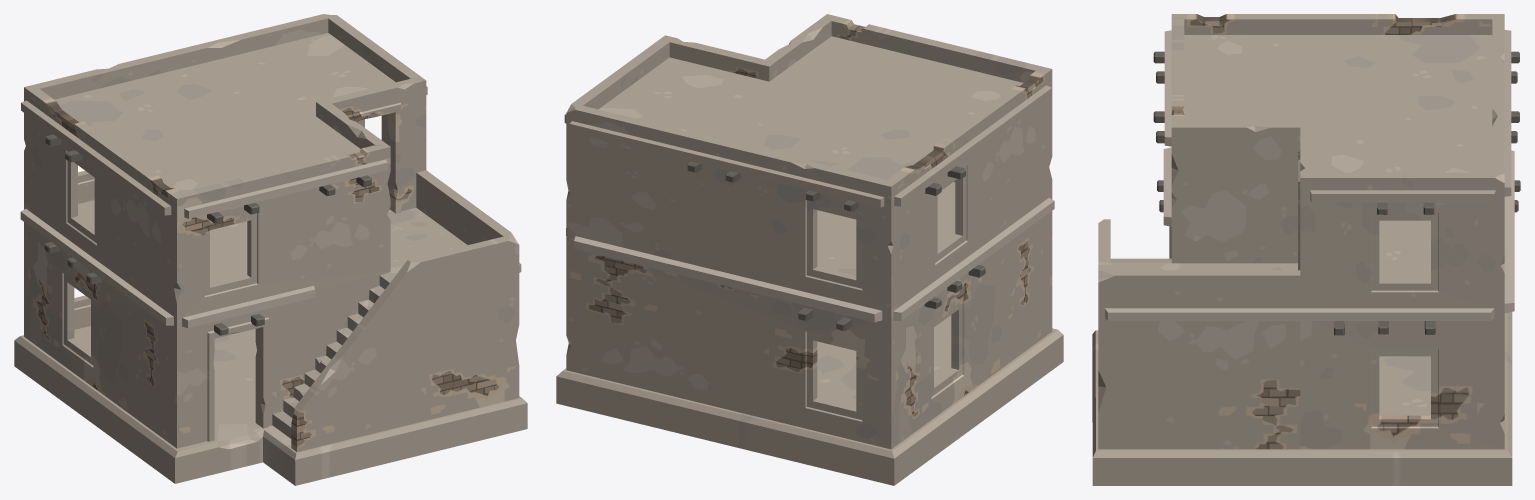
Rendered from SM_Bld_Village_House_06.fbx.
3 renders of one model, left to right at view 1: azimuth 30°, elevation 25°; view 2: azimuth 150°, elevation 25°; view 3: azimuth 270°, elevation 25°, orthographic. The views are drawn at different scales.
Visible parts, largest first — view 1: SM_Bld_Village_House_06; view 2: SM_Bld_Village_House_06; view 3: SM_Bld_Village_House_06.
Part boxes in pixels (bbox=[...]): SM_Bld_Village_House_06: bbox=[14, 14, 527, 485]; SM_Bld_Village_House_06: bbox=[556, 14, 1063, 485]; SM_Bld_Village_House_06: bbox=[1092, 14, 1520, 485].
Bounding box in the file's own units: 849 × 674 × 858.
